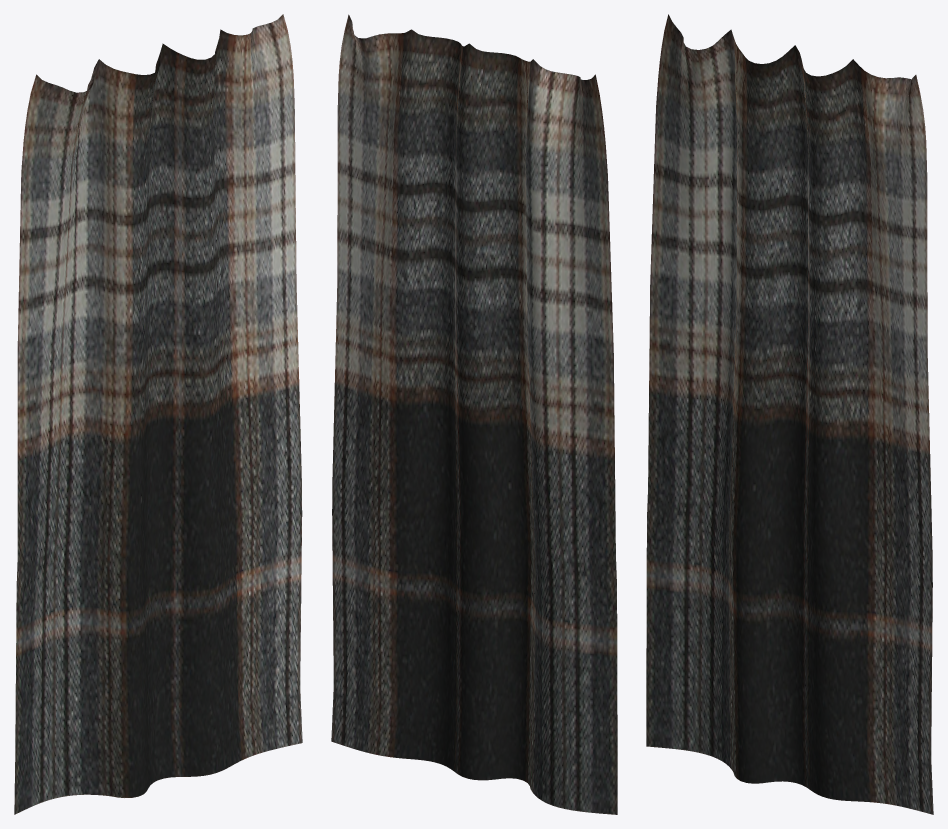
The model's file is Curtain02_left.FBX.
3 renders of one model, left to right at view 1: azimuth 30°, elevation 25°; view 2: azimuth 150°, elevation 25°; view 3: azimuth 330°, elevation 25°, orthographic.
Visible parts, largest first — view 1: Curtain02_left_LOD0; view 2: Curtain02_left_LOD0; view 3: Curtain02_left_LOD0.
Boxes of the visible parts, x1,y1,x2,y2 form: Curtain02_left_LOD0: (14, 14, 302, 814); Curtain02_left_LOD0: (331, 14, 617, 814); Curtain02_left_LOD0: (646, 14, 933, 814).
Size of the model in its own units: 106 by 13.99 by 260.
